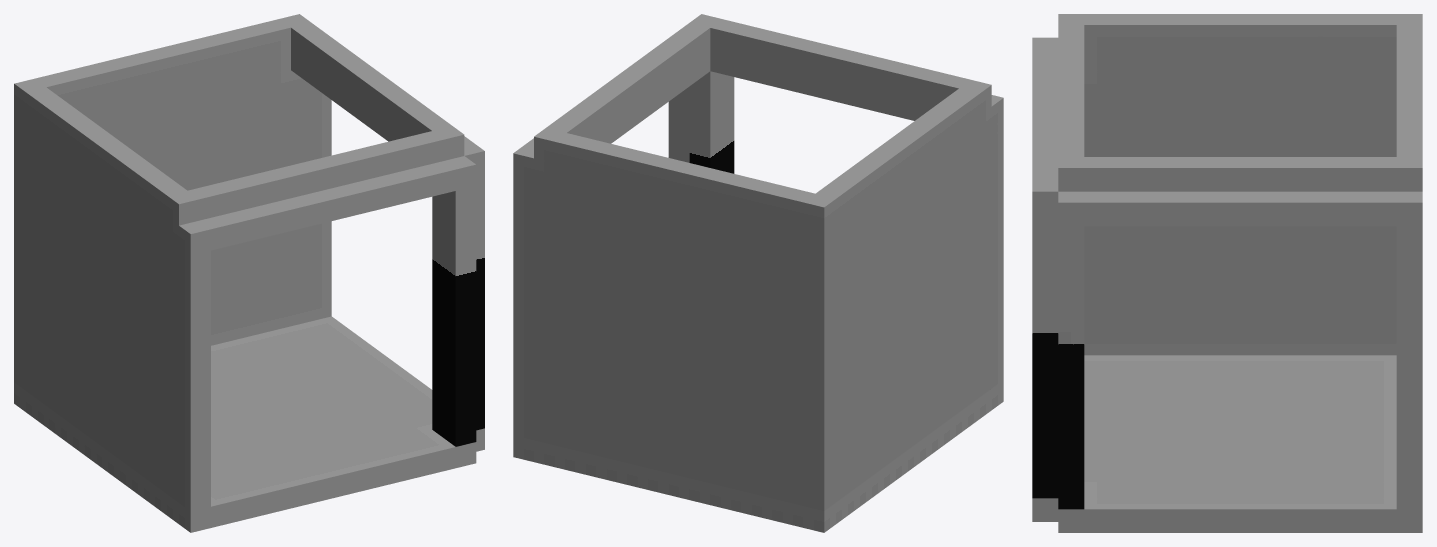
Rendered from vent_Y.fbx.
3 views of the same model, side by side, from view 1: azimuth 30°, elevation 25°; view 2: azimuth 150°, elevation 25°; view 3: azimuth 270°, elevation 25° (orthographic). The views are drawn at different scales.
Parts seen in each view (by area): view 1: cube_2, cube, cube_4, cube_10, cube_3, cube_1, cube_11, cube_9, cube_8, cube_5, cube_7; view 2: cube_4, cube_2, cube_10, cube, cube_8, cube_9, cube_11, cube_1, cube_3, cube_7, cube_6; view 3: cube_2, cube, cube_9, cube_6, cube_5, cube_8, cube_3, cube_4, cube_7, cube_1, cube_11, cube_10.
Boxes of the visible parts, left/top/right/bottom form: cube_2: left=14, top=126, right=210, bottom=511; cube: left=14, top=321, right=476, bottom=532; cube_4: left=90, top=70, right=331, bottom=345; cube_10: left=14, top=19, right=290, bottom=134; cube_3: left=432, top=186, right=476, bottom=446; cube_1: left=167, top=156, right=476, bottom=255; cube_11: left=167, top=126, right=464, bottom=225; cube_9: left=26, top=87, right=186, bottom=237; cube_8: left=280, top=14, right=451, bottom=141; cube_5: left=312, top=316, right=484, bottom=451; cube_7: left=476, top=172, right=484, bottom=430; cube_4: left=513, top=175, right=803, bottom=505; cube_2: left=803, top=120, right=1003, bottom=510; cube_10: left=554, top=133, right=836, bottom=250; cube: left=534, top=380, right=1003, bottom=532; cube_8: left=534, top=22, right=710, bottom=184; cube_9: left=816, top=88, right=979, bottom=241; cube_11: left=690, top=14, right=991, bottom=114; cube_1: left=710, top=49, right=1003, bottom=136; cube_3: left=689, top=71, right=734, bottom=173; cube_7: left=668, top=86, right=689, bottom=162; cube_6: left=513, top=138, right=533, bottom=179; cube_2: left=1084, top=72, right=1396, bottom=355; cube: left=1032, top=355, right=1396, bottom=521; cube_9: left=1084, top=14, right=1396, bottom=72; cube_6: left=1058, top=191, right=1422, bottom=226; cube_5: left=1058, top=498, right=1422, bottom=532; cube_8: left=1084, top=157, right=1422, bottom=191; cube_3: left=1032, top=215, right=1058, bottom=498; cube_4: left=1396, top=226, right=1422, bottom=509; cube_7: left=1058, top=226, right=1084, bottom=509; cube_1: left=1032, top=37, right=1058, bottom=215; cube_11: left=1058, top=14, right=1084, bottom=191; cube_10: left=1396, top=14, right=1422, bottom=156.
Size of the model in its own units: 93.75 by 93.75 by 93.75.
11 materials, 11 textured.
